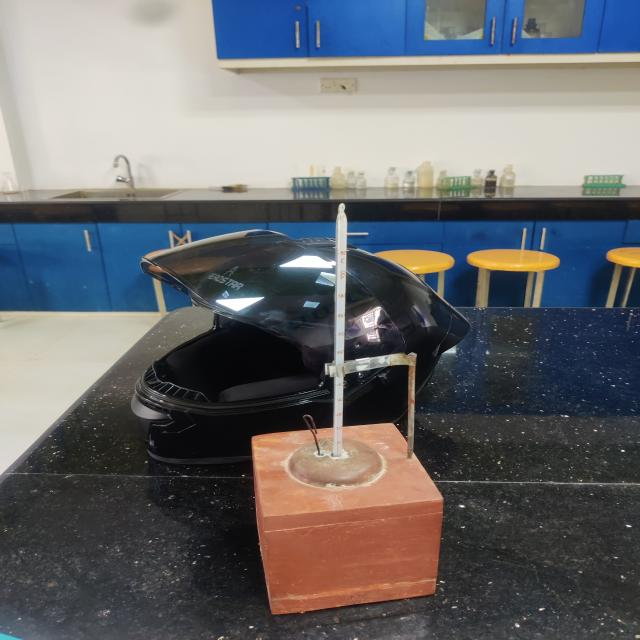Calorimeter: (222, 197, 475, 625)
